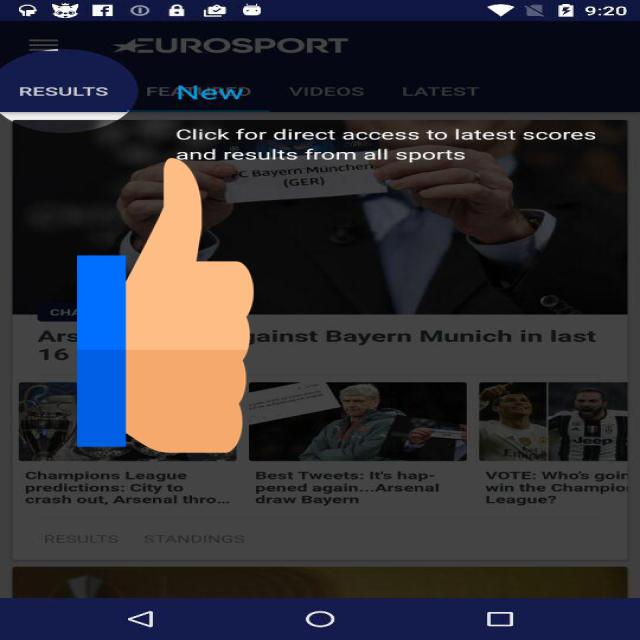privacy zuckering: (77, 151, 254, 460)
